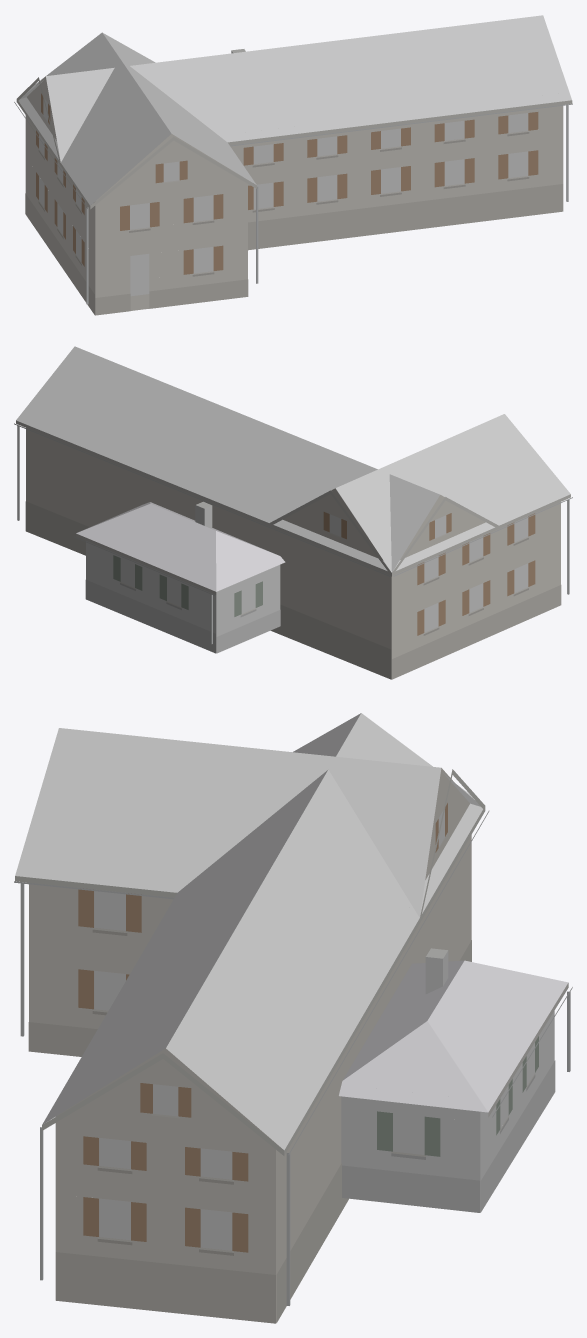
3 views of the same model, one above another, from view 1: azimuth 30°, elevation 25°; view 2: azimuth 150°, elevation 25°; view 3: azimuth 270°, elevation 25° (orthographic). The views are drawn at different scales.
Visible parts, largest first — view 1: bld; view 2: bld; view 3: bld.
Part boxes in pixels (<box>): bld: <box>14,15,572,315</box>; bld: <box>14,346,572,679</box>; bld: <box>14,713,572,1323</box>.
Bounding box in the file's own units: 28.18 × 9.18 × 17.1.
